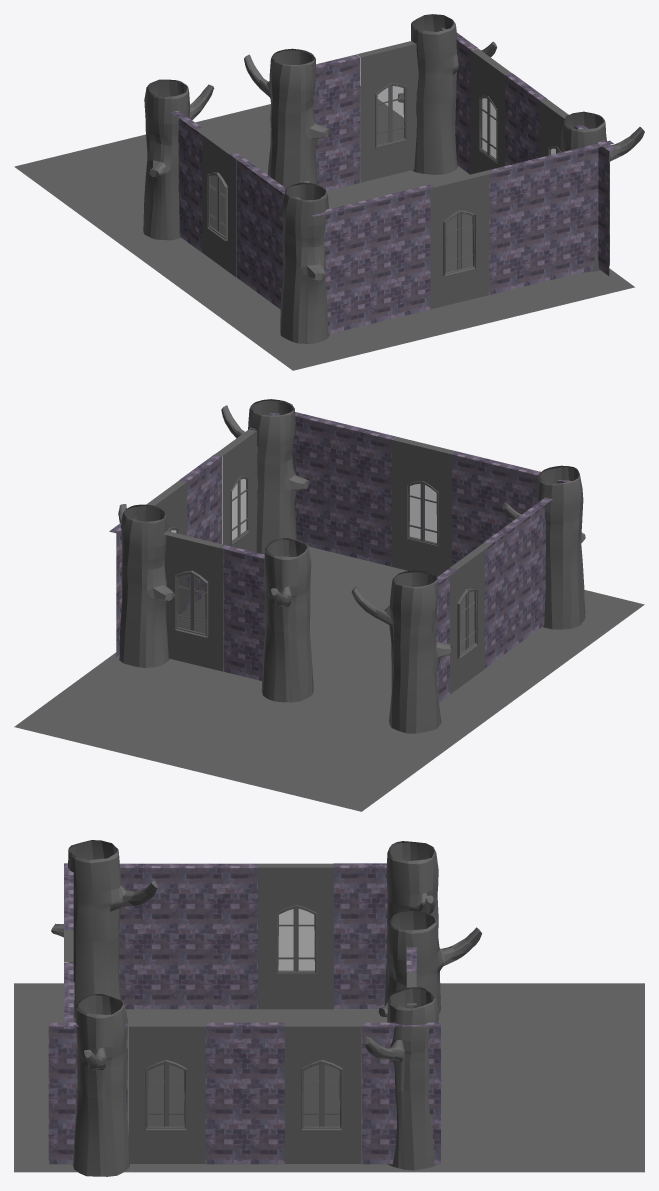
The model's file is SM_Walls_Tree_Floor.dae.
3 views of the same model, one above another, from view 1: azimuth 30°, elevation 25°; view 2: azimuth 150°, elevation 25°; view 3: azimuth 270°, elevation 25° (orthographic). The views are drawn at different scales.
Visible parts, largest first — view 1: pPlane4; view 2: pPlane4; view 3: pPlane4.
Part boxes in pixels (left/top/right/bottom): pPlane4: left=14, top=14, right=644, bottom=370; pPlane4: left=14, top=399, right=644, bottom=811; pPlane4: left=14, top=840, right=644, bottom=1176.
Size of the model in its own units: 1189 by 422 by 1496.
